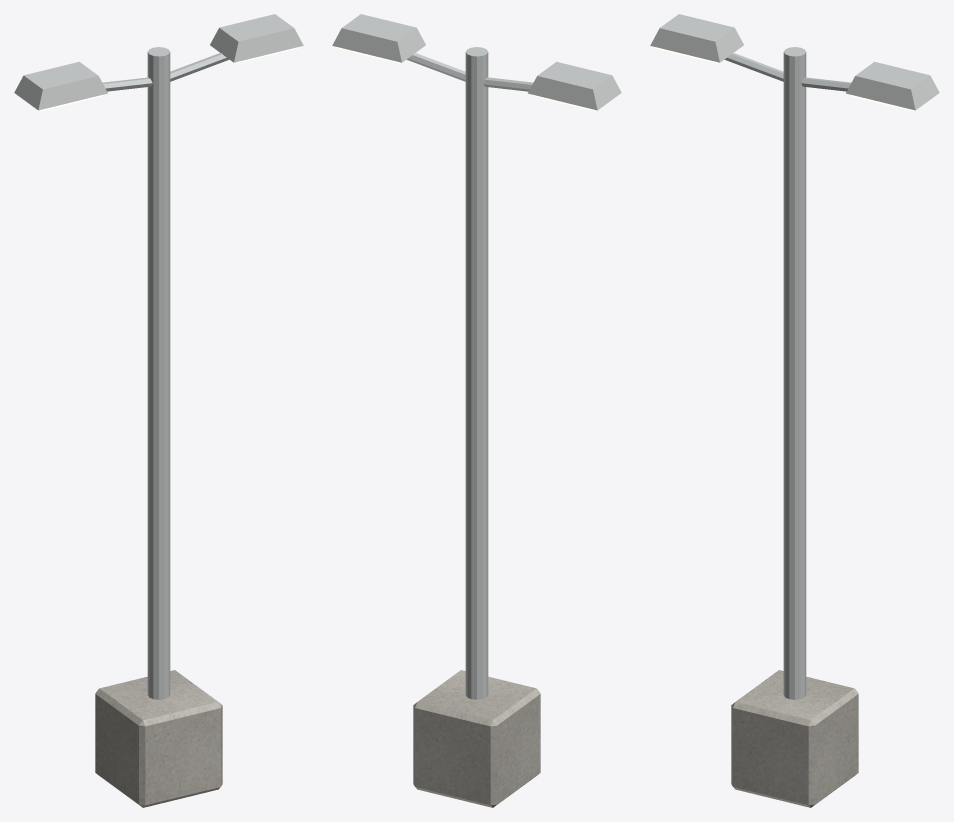
Rendered from street_lamp.glb.
3 renders of one model, left to right at view 1: azimuth 30°, elevation 25°; view 2: azimuth 150°, elevation 25°; view 3: azimuth 330°, elevation 25°, orthographic.
Visible parts, largest first — view 1: street_lamp_galv, street_lamp_concrete; view 2: street_lamp_galv, street_lamp_concrete; view 3: street_lamp_galv, street_lamp_concrete.
Boxes of the visible parts, left/top/right/bottom form: street_lamp_galv: left=14, top=14, right=303, bottom=699; street_lamp_concrete: left=95, top=670, right=222, bottom=807; street_lamp_galv: left=332, top=14, right=621, bottom=699; street_lamp_concrete: left=413, top=670, right=540, bottom=807; street_lamp_galv: left=650, top=14, right=939, bottom=699; street_lamp_concrete: left=731, top=670, right=858, bottom=807.
Bounding box in the file's own units: 1.9 × 5 × 0.6.
3 materials, 1 textured.
